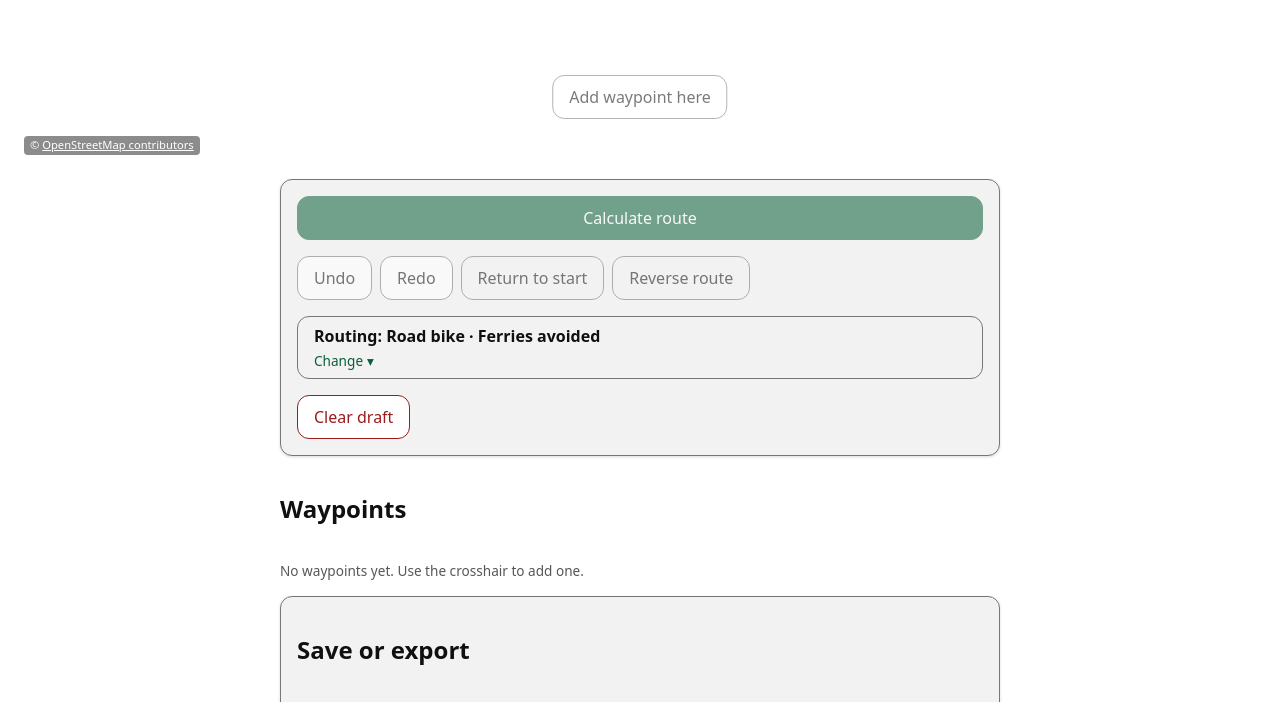
Test: PlanningScreen draft hydration lifecycle › editing only the current-draft profile before the fresh-session preferences read resolves still lets the untouched ferry default seed
The image size is (1280, 702).
(page scrolled)
Click the text "Change": (338, 360) [314,351,363,370]
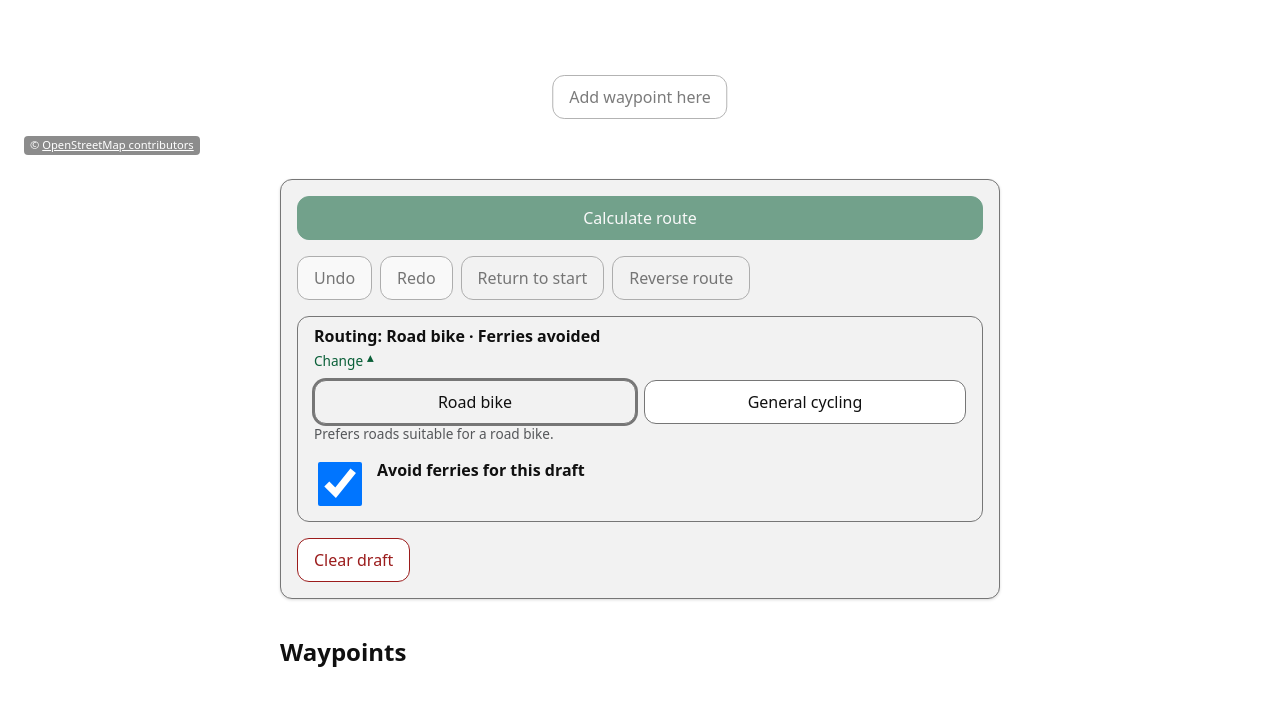
Click the button "General cycling": (805, 402) [644,380,966,424]
(page scrolled)
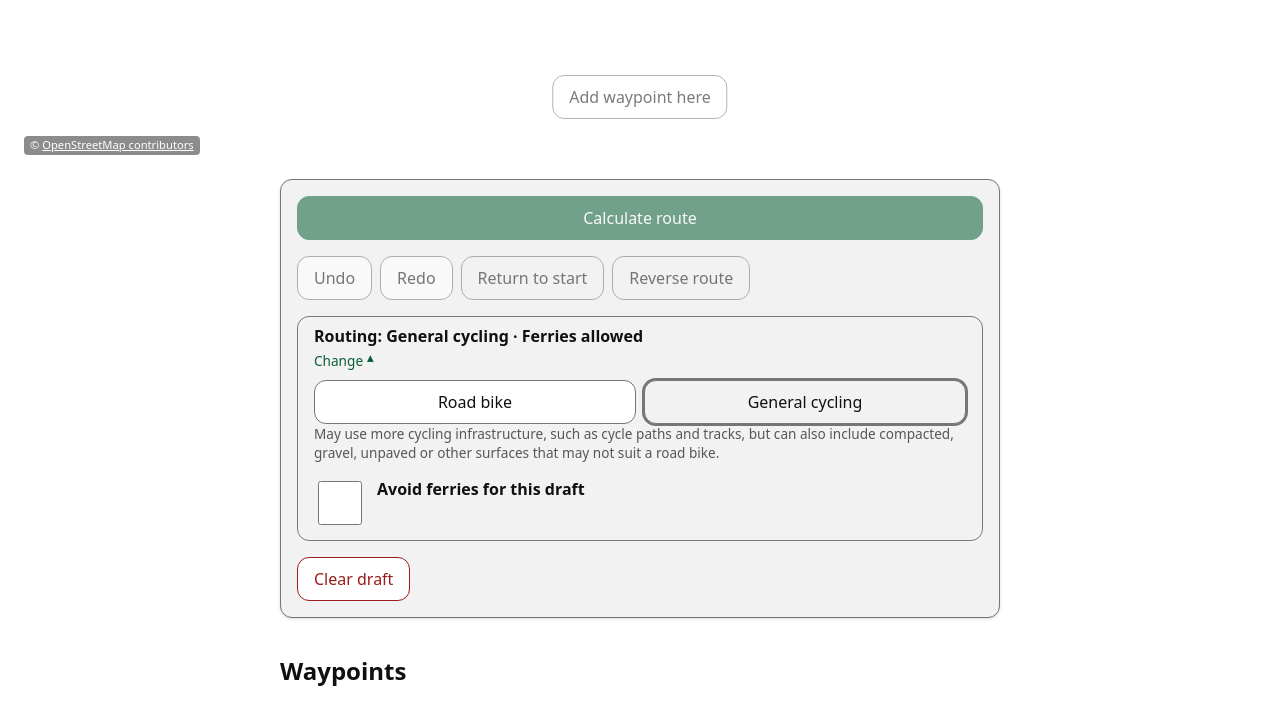
Result: the text "Routing: General cycling · Ferries allowed" is shown at [314,325,643,347]
